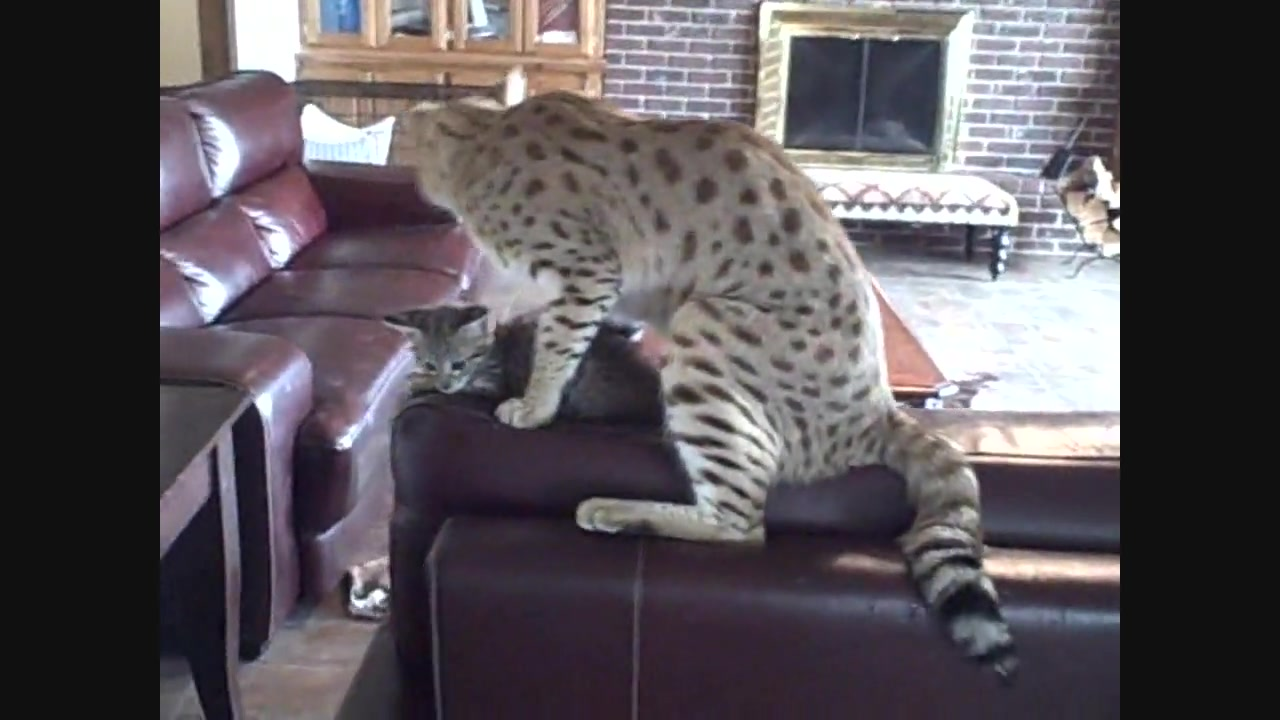cat: (402, 92, 1026, 684)
